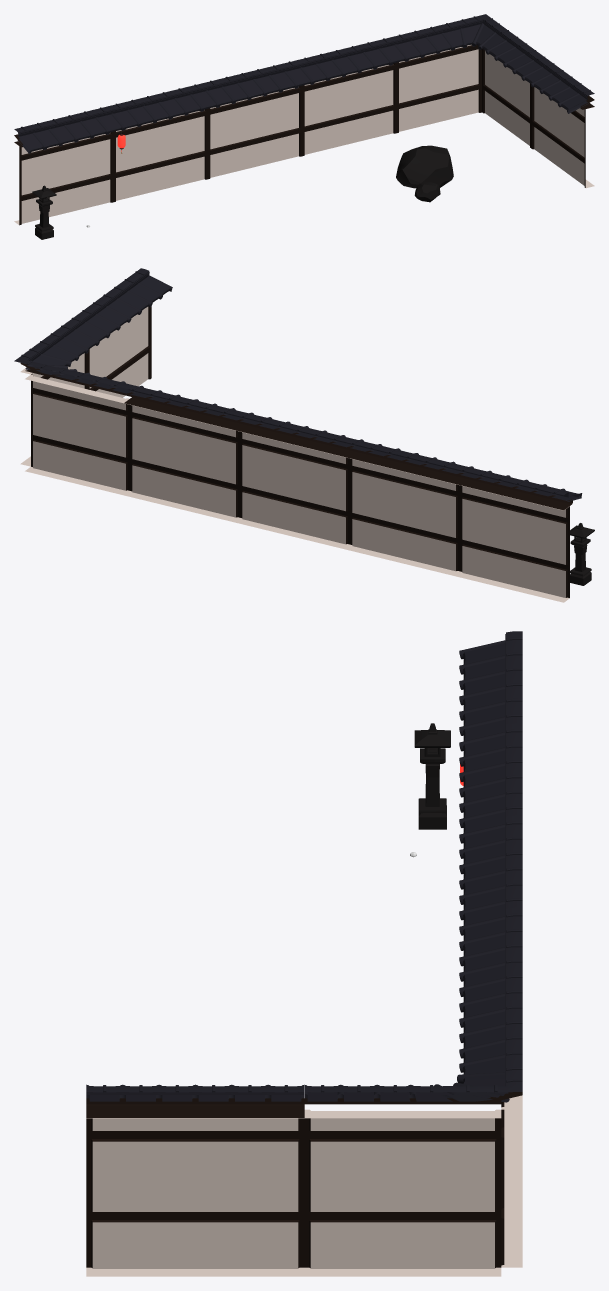
File: courtyard props.fbx
3 renders of one model, top to bottom at view 1: azimuth 30°, elevation 25°; view 2: azimuth 150°, elevation 25°; view 3: azimuth 270°, elevation 25°, orthographic. The views are drawn at different scales.
Visible parts, largest first — view 1: Wall (straight), Wall (straight).001, Wall (straight).003, Cube.001, Cube, Cube.002; view 2: Wall (straight), Wall (straight).001, Wall (straight).003, Cube; view 3: Wall (straight).001, Wall (straight).003, Wall (straight), Cube.
Boxes of the visible parts, box(x1,y1,x2,y2) form: Wall (straight): box(14, 37, 407, 225); Wall (straight).001: box(392, 14, 539, 147); Wall (straight).003: box(513, 54, 594, 188); Cube.001: box(396, 145, 453, 188); Cube: box(32, 185, 56, 239); Cube.002: box(414, 182, 440, 202); Wall (straight): box(124, 385, 582, 602); Wall (straight).001: box(14, 314, 141, 495); Wall (straight).003: box(78, 268, 172, 397); Cube: box(570, 523, 594, 585); Wall (straight).001: box(304, 1000, 522, 1276); Wall (straight).003: box(86, 1084, 304, 1276); Wall (straight): box(459, 631, 522, 1184); Cube: box(414, 723, 450, 829).
Size of the model in its own units: 2000 by 404 by 800.
